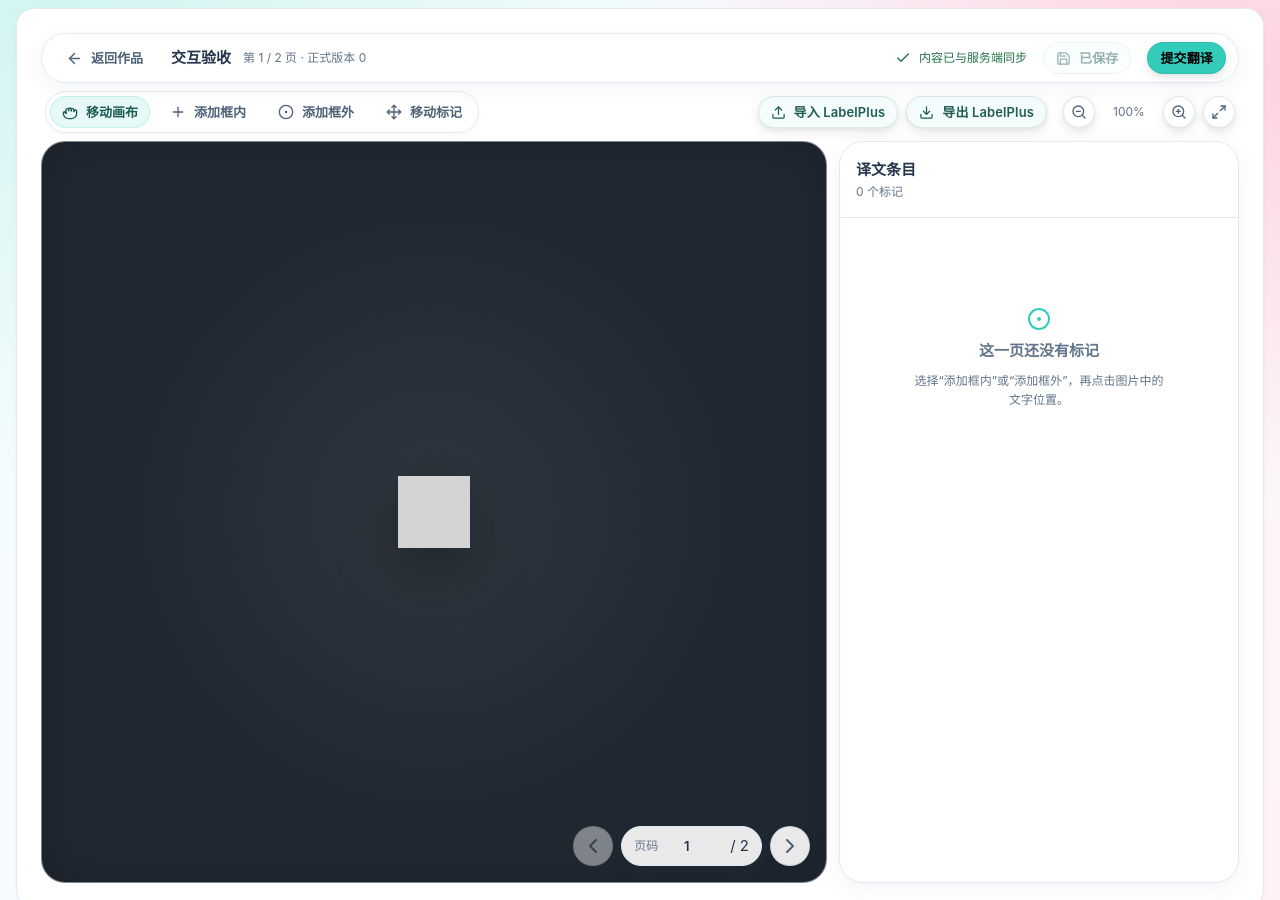
Test: lost creation response retains the draft instead of silently orphaning a marker
Click the button "添加框内" at coordinates (208, 112), box top-left (158, 96), bottom-right (258, 128)
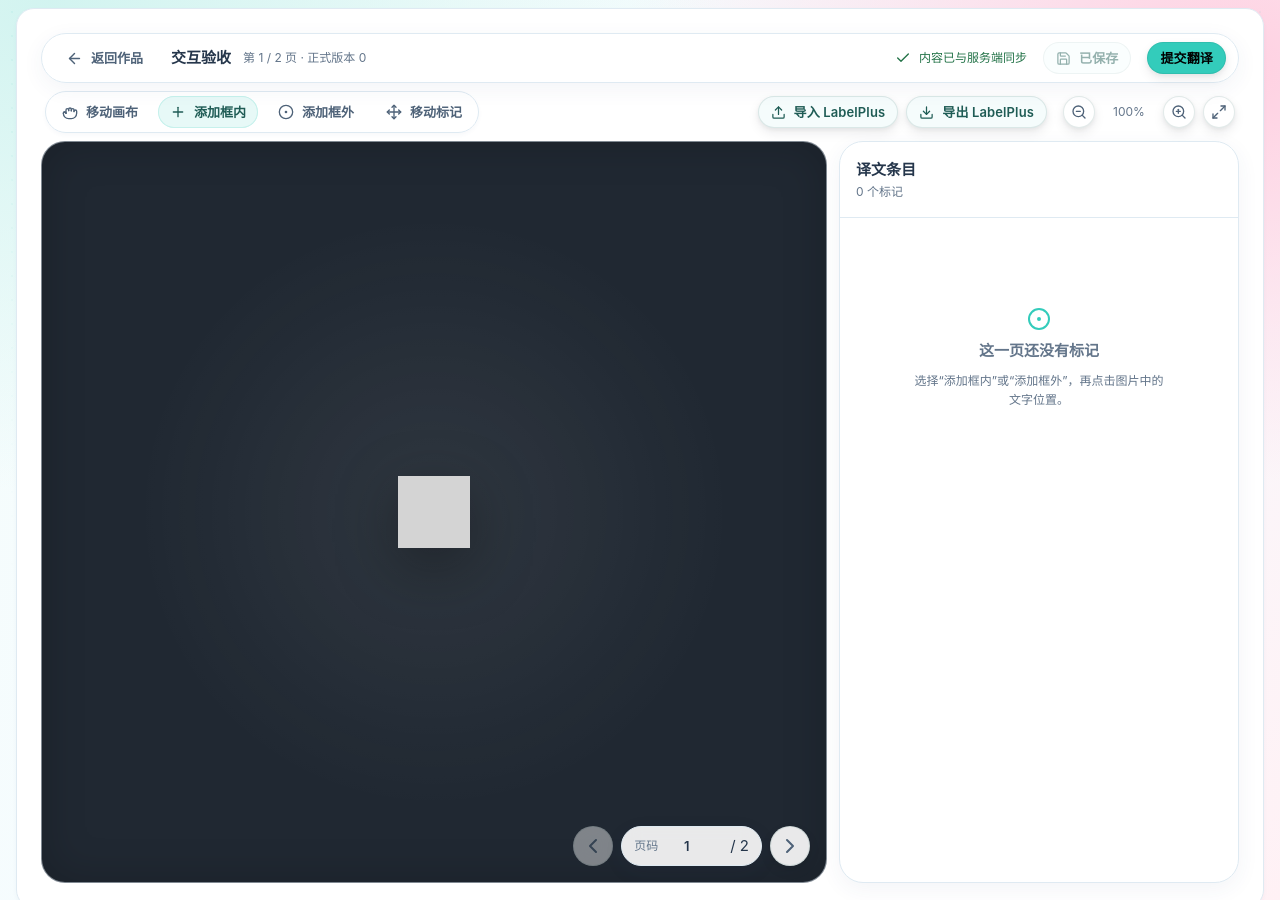
Press the mouse on the element named "图片标记画布，Alt 加滚轮缩放，Ctrl 加 Z 撤销连续新标点" at coordinates (434, 512), box top-left (41, 141), bottom-right (827, 883)
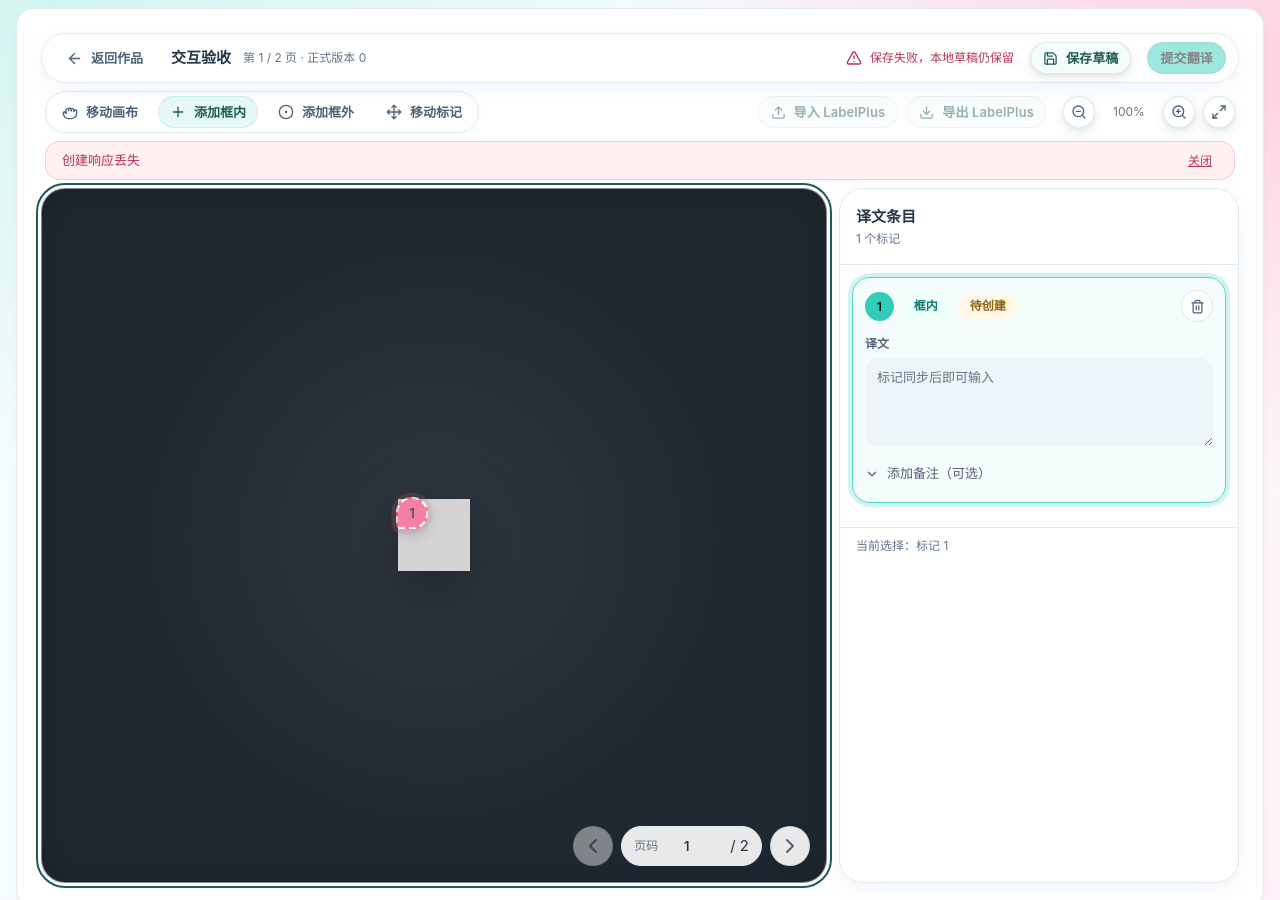
Check: the text "保存失败，本地草稿仍保留" is shown, box top-left (870, 48), bottom-right (1014, 68)
Press z in the element named "图片标记画布，Alt 加滚轮缩放，Ctrl 加 Z 撤销连续新标点", box top-left (41, 188), bottom-right (827, 883)
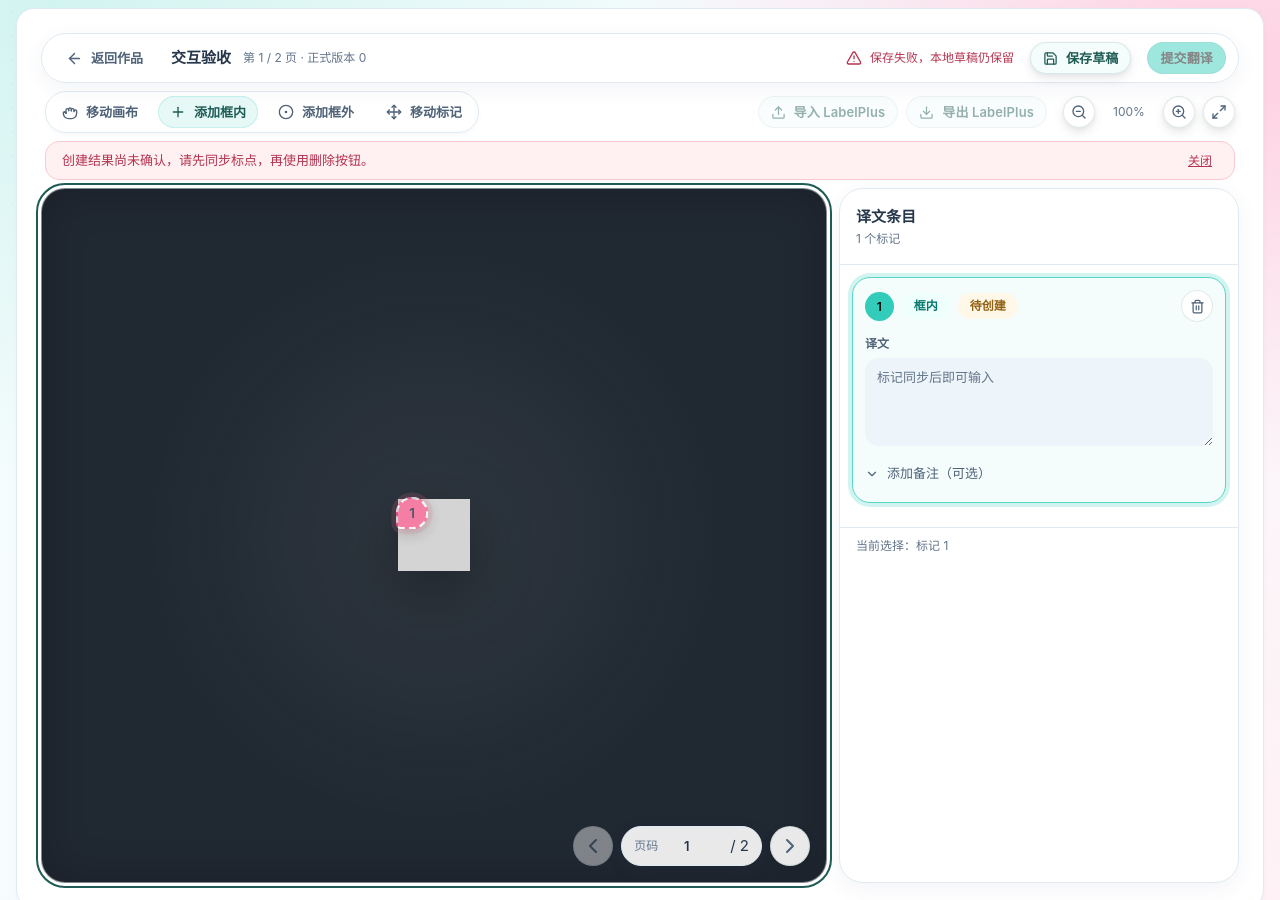
Check: the button named "标记 1" is shown, box top-left (396, 498), bottom-right (429, 530)
Check: the text "创建结果尚未确认，请先同步标点，再使用删除按钮。" is shown, box top-left (62, 152), bottom-right (374, 168)
